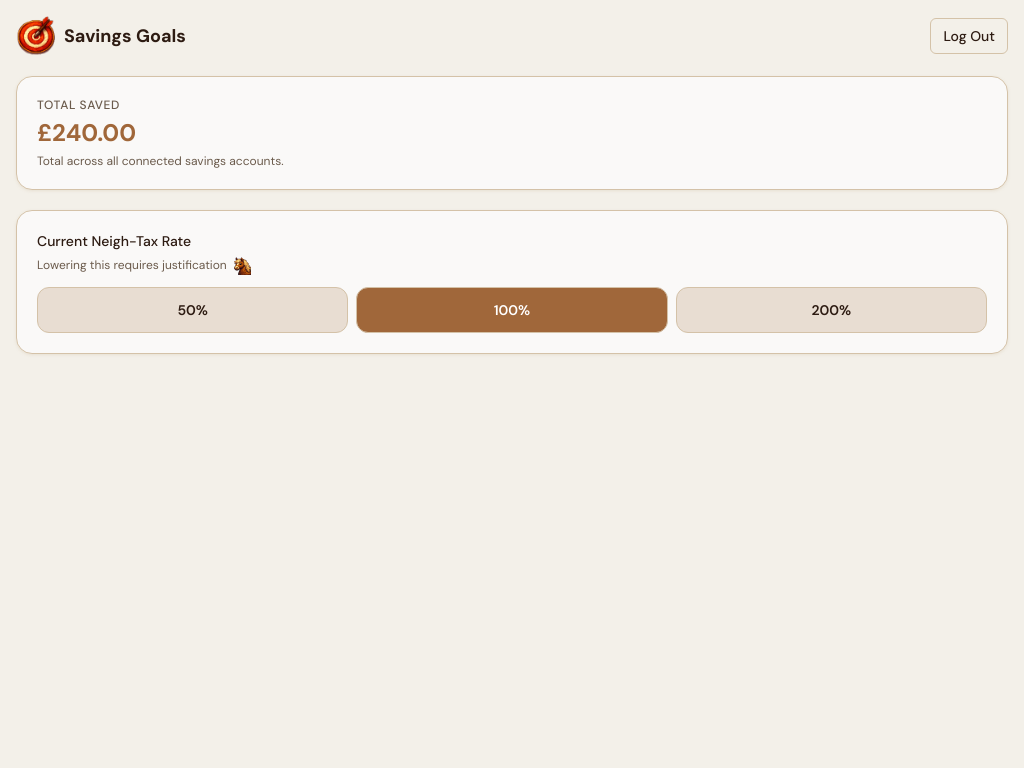
Scenario: GoalsTab › modal Submit requires justification text
Click the button "50%". click: coordinates (193, 310)
box: [37,287,348,333]
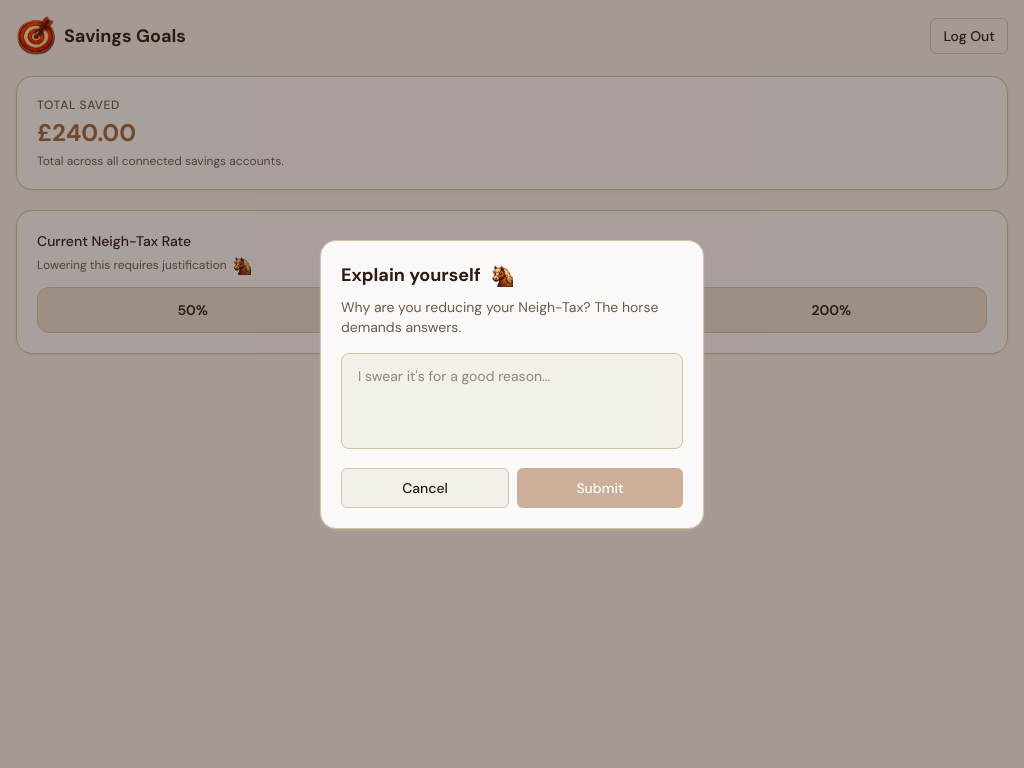
Check: the button "Submit" is disabled, box [517,468,683,508]
Type "Good reason" into the text box with placeholder "I swear it's for a good reason...". click: coordinates (512, 400)
box: [341,352,683,448]
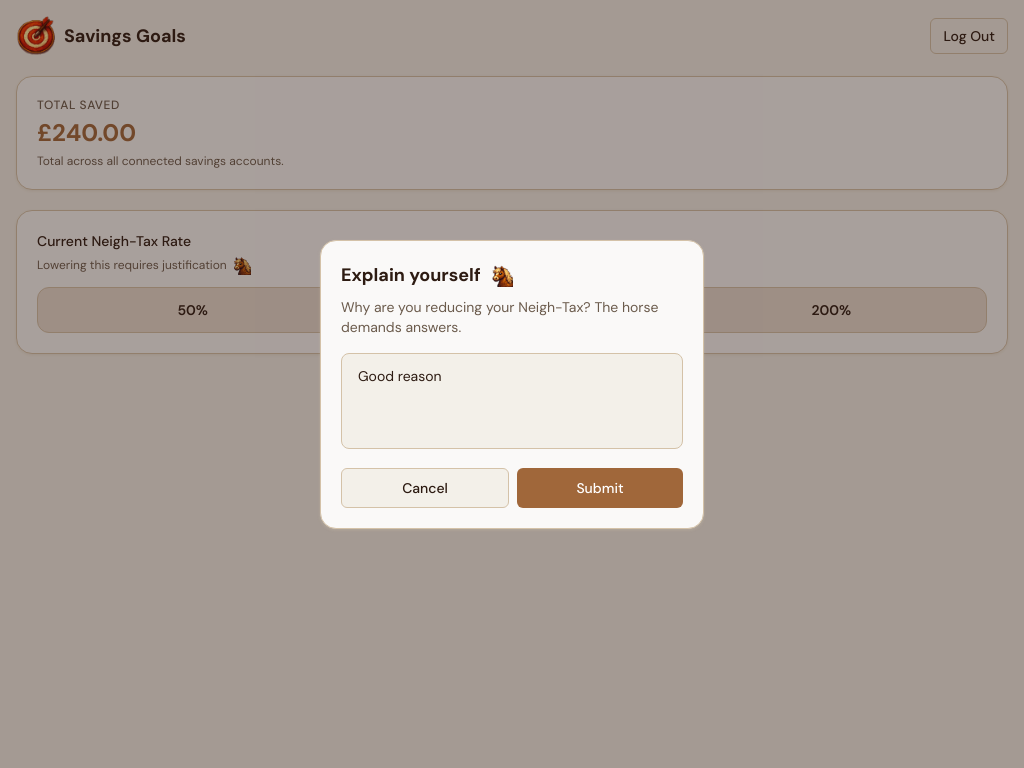
Check: the button "Submit" is enabled, box [517,468,683,508]
